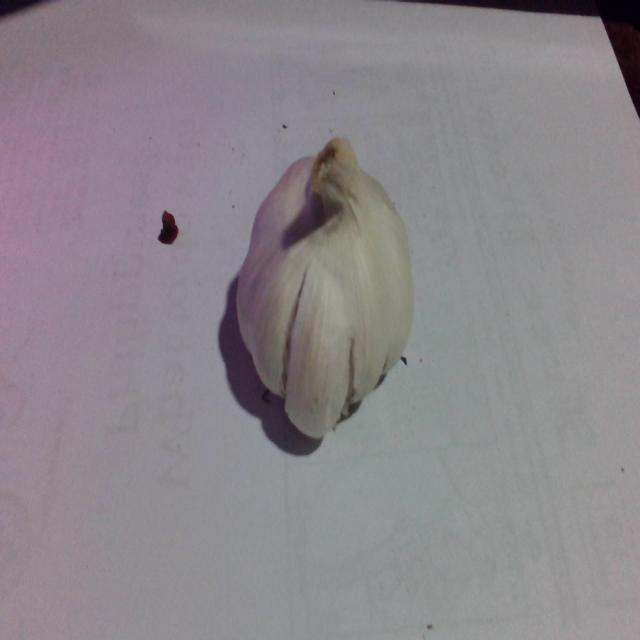garlic: (236, 136, 417, 440)
